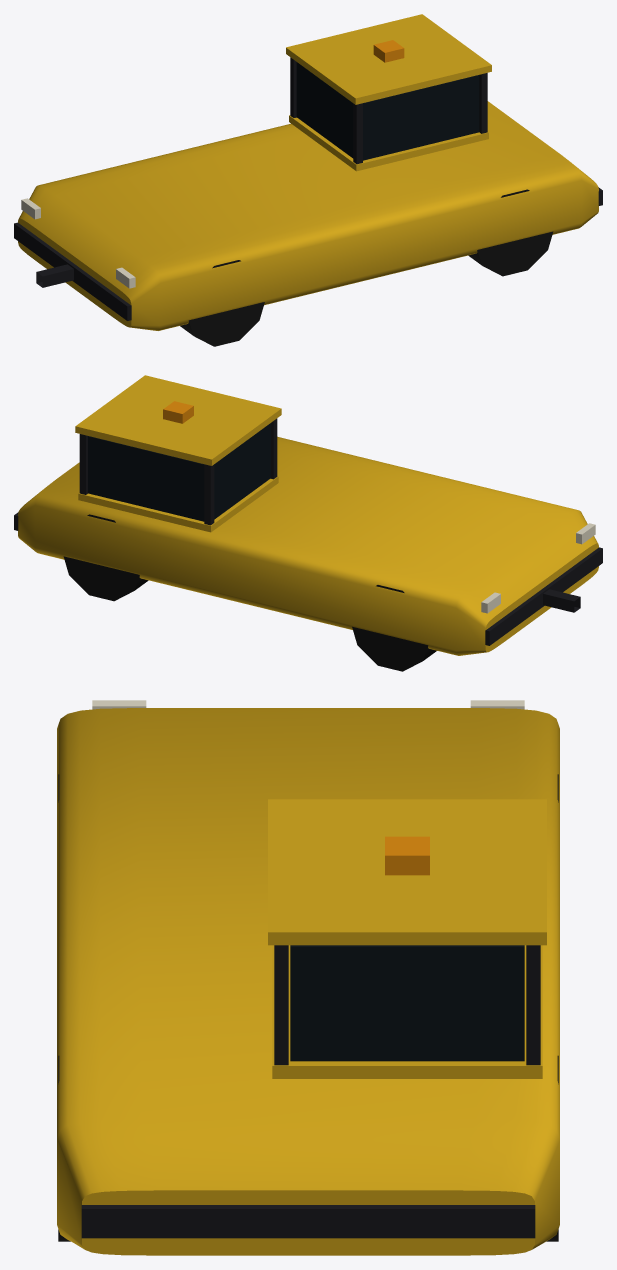
The model's file is pushback.glb.
3 views of the same model, one above another, from view 1: azimuth 30°, elevation 25°; view 2: azimuth 150°, elevation 25°; view 3: azimuth 270°, elevation 25° (orthographic). The views are drawn at different scales.
Parts seen in each view (by area): view 1: pushback; view 2: pushback; view 3: pushback.
Boxes of the visible parts, <box> form: pushback: <box>14,14,602,346</box>; pushback: <box>14,375,602,671</box>; pushback: <box>57,700,559,1255</box>.
Size of the model in its own units: 6.5 by 2.11 by 2.79.
